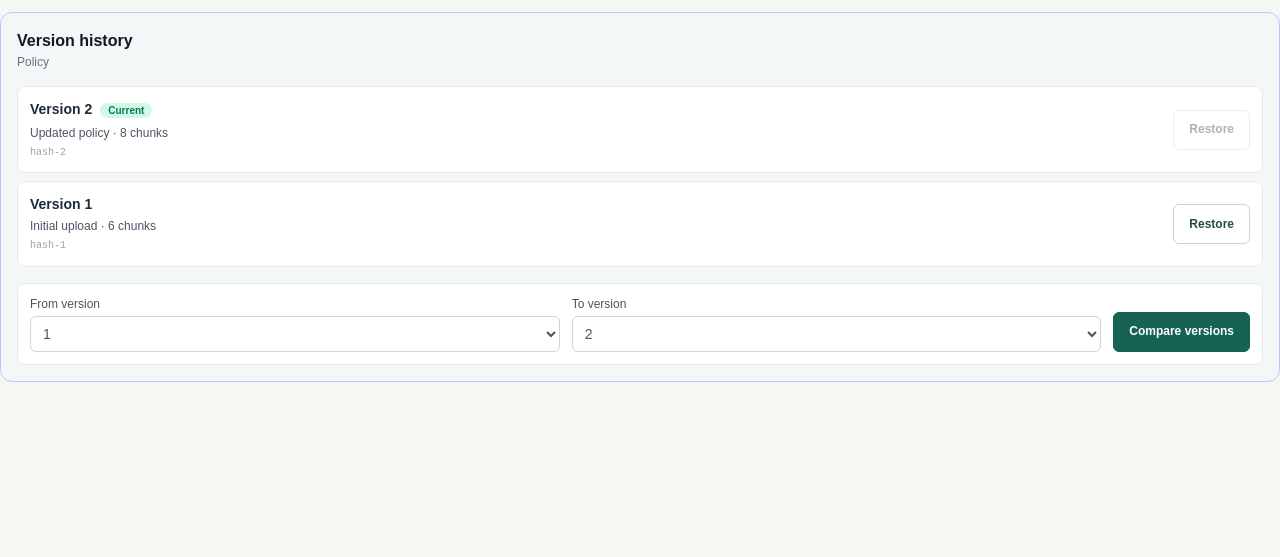
Scenario: DocumentVersionPanel › loads history and compares two selected versions
expect the text "Updated policy · 8 chunks" is shown: met, box [30,125,168,141]
Select "1" in the dropdown labelled "From version". click: (295, 334)
box: [30,316,560,352]
Select "2" in the dropdown labelled "To version". click: (836, 334)
box: [572,316,1101,352]
Click the button "Compare versions". click: (1182, 332)
box: [1113,312,1250,352]
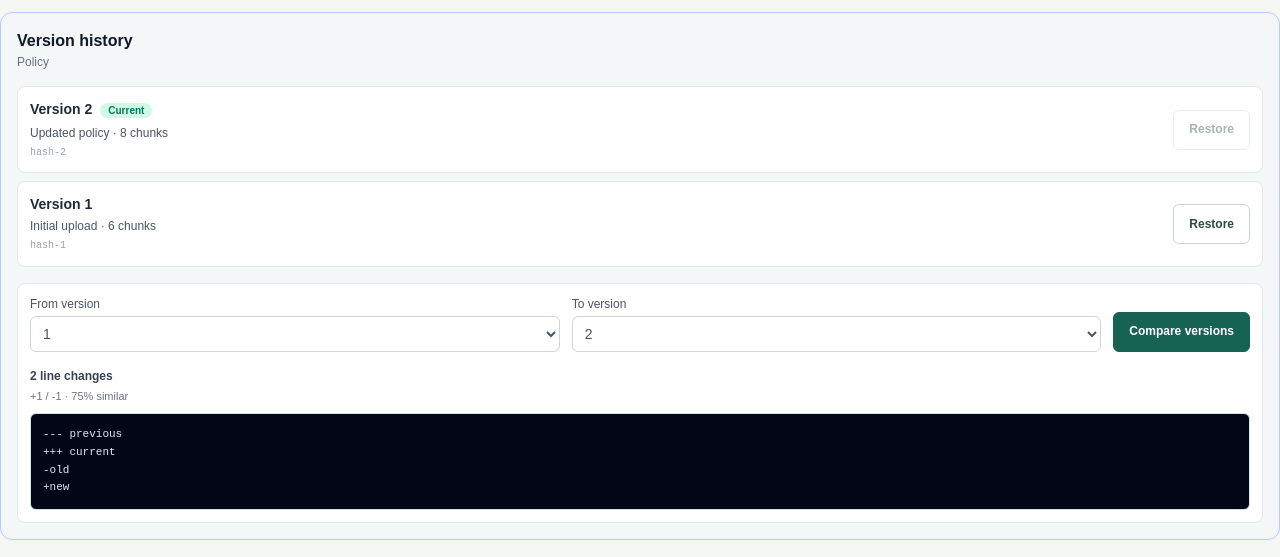
expect the text "2 line changes" is shown: met, box [30,369,113,383]
expect the text named "Version diff" shows "+new": met, box [43,428,122,493]
